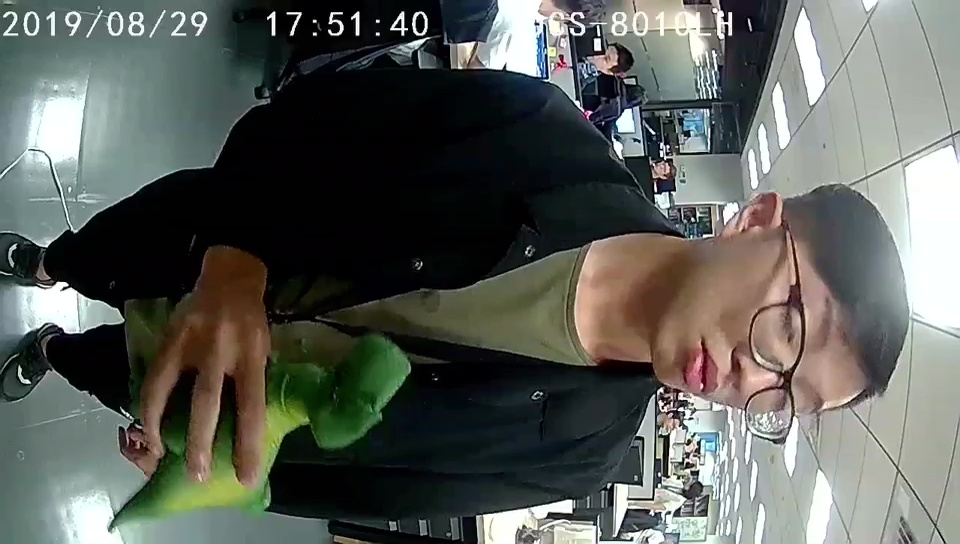rex: (136, 332, 411, 517)
